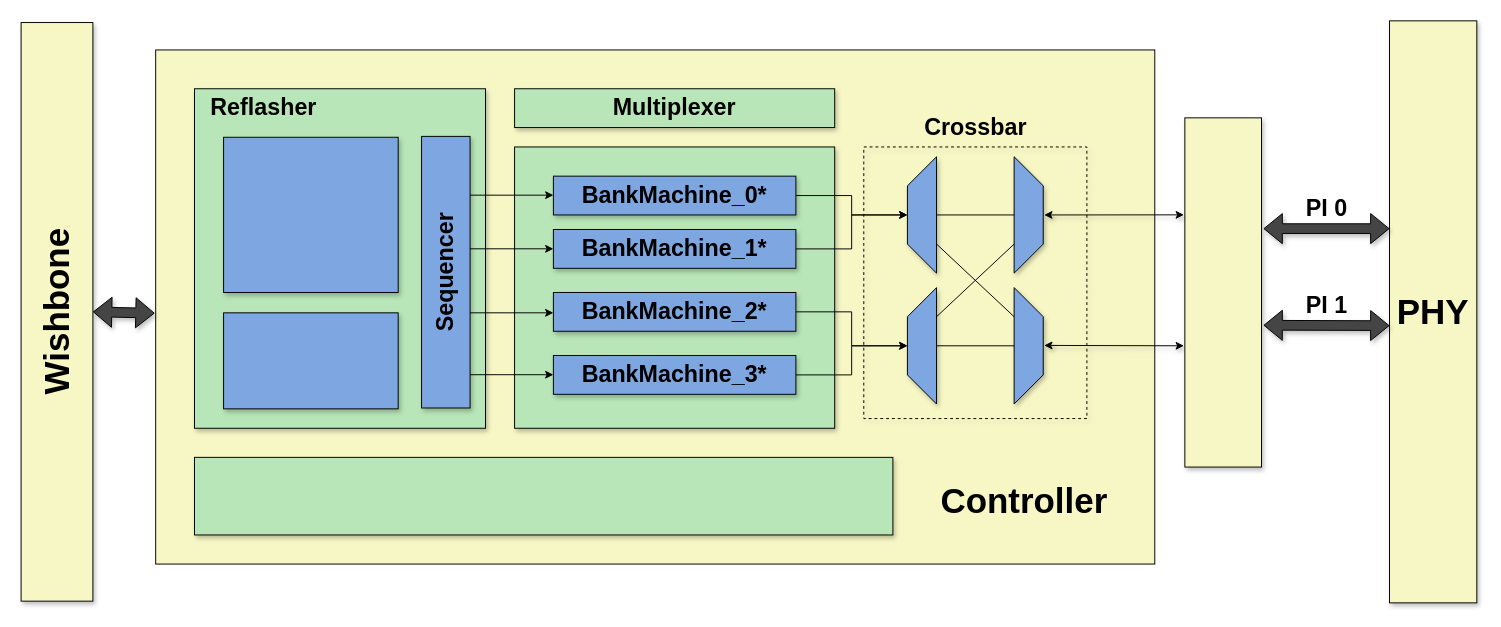
Some shapes in this 1501 by 627 pixel diagram are drawn without their labels. The centre of each missing label's shape, as x and y in pixels:
"Cache" belongs at [544,497].
"DFI" belongs at [1223,293].
"Postponer" belongs at [311,362].
"Timer" belongs at [311,215].
